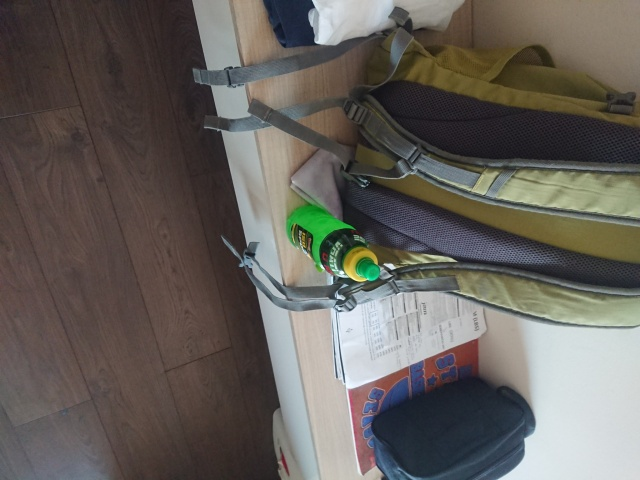Vindi Iso Sport Lemon-Grapefruit 500mL: (283, 202, 382, 285)
